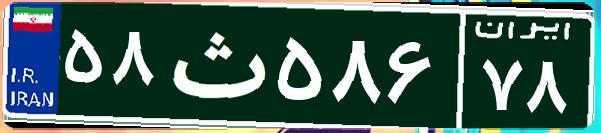5: (273, 28, 330, 110), (57, 26, 110, 107)
6: (385, 28, 445, 110)
7: (475, 38, 525, 113)
8: (330, 28, 385, 110), (110, 28, 158, 105), (525, 38, 570, 115)
ث: (158, 15, 273, 115)
